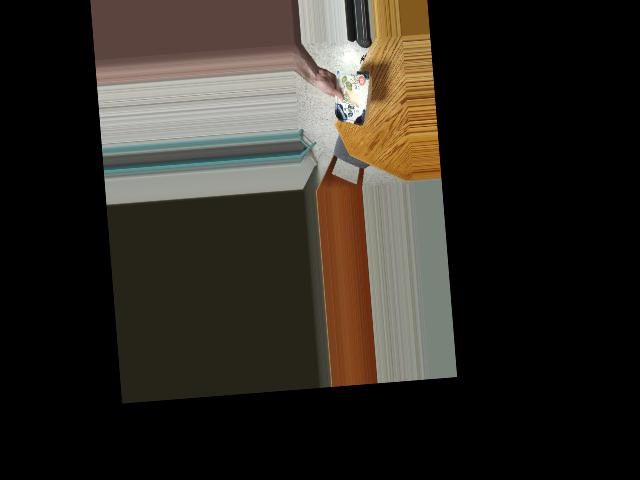cheese: (329, 65, 367, 128)
